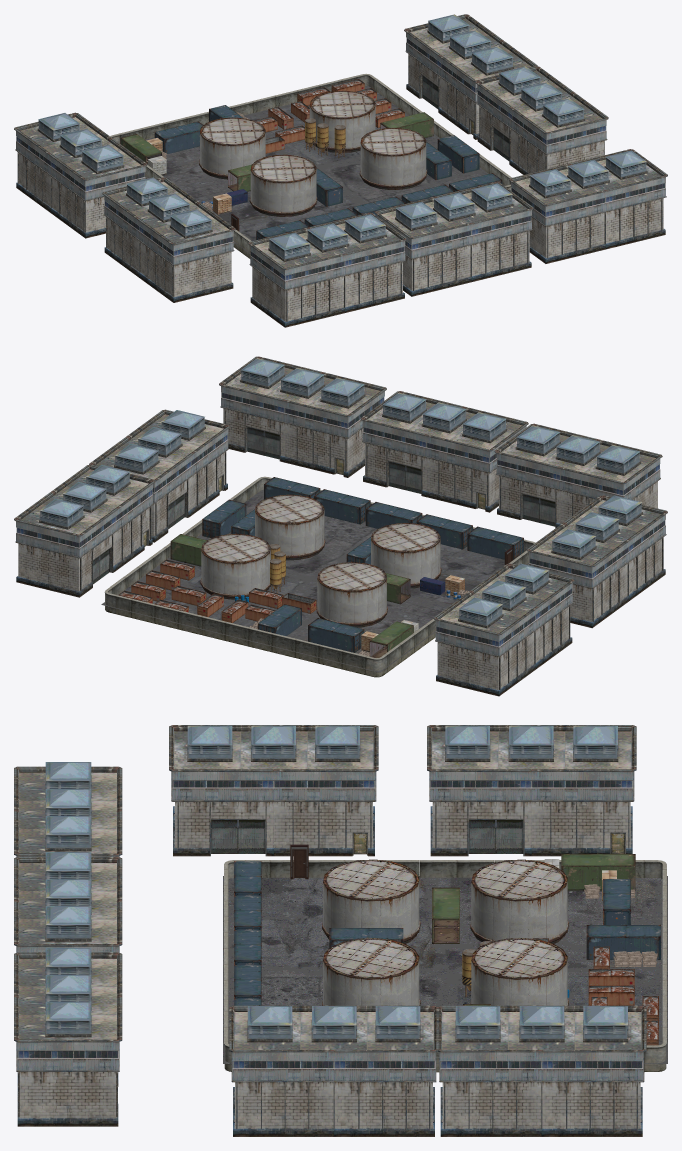
Rendered from stage.fbx.
3 renders of one model, top to bottom at view 1: azimuth 30°, elevation 25°; view 2: azimuth 150°, elevation 25°; view 3: azimuth 270°, elevation 25°, orthographic. The views are drawn at different scales.
Parts seen in each view (by area): view 1: Building_1__4_, Building_1__2_, Building_1__3_, Building_1__5_, Building_1, Building_1__7_, Building_1__1_, Alphalt_Floor, Liquid_reservoir_1__1_, Liquid_reservoir_1__3_, Liquid_reservoir_1, Liquid_reservoir_1__2_ (+12 smaller); view 2: Building_1__2_, Building_1__7_, Building_1__1_, Building_1__3_, Building_1__4_, Building_1__5_, Building_1, Alphalt_Floor, Liquid_reservoir_1, Liquid_reservoir_1__2_, Liquid_reservoir_1__3_, Liquid_reservoir_1__1_ (+14 smaller); view 3: Building_1__1_, Building_1, Building_1__7_, Building_1__5_, Alphalt_Floor, Building_1__2_, Building_1__3_, Building_1__4_, Liquid_reservoir_1, Liquid_reservoir_1__1_, Liquid_reservoir_1__3_, Liquid_reservoir_1__2_ (+13 smaller).
Part boxes in pixels (x1,y1,x2,y2): Building_1__4_: (248, 212, 407, 327); Building_1__2_: (509, 149, 667, 263); Building_1__3_: (375, 182, 533, 296); Building_1__5_: (102, 177, 235, 302); Building_1: (475, 66, 608, 174); Building_1__7_: (14, 112, 147, 238); Building_1__1_: (404, 14, 537, 139); Alphalt_Floor: (145, 86, 504, 253); Liquid_reservoir_1__1_: (249, 154, 317, 216); Liquid_reservoir_1__3_: (359, 128, 427, 189); Liquid_reservoir_1: (199, 117, 265, 179); Liquid_reservoir_1__2_: (309, 90, 375, 152); Building_1__2_: (219, 356, 386, 477); Building_1__7_: (433, 563, 574, 696); Building_1__1_: (14, 464, 154, 597); Building_1__3_: (360, 391, 528, 512); Building_1__4_: (494, 423, 662, 527); Building_1__5_: (526, 495, 667, 628); Building_1: (89, 409, 230, 542); Alphalt_Floor: (101, 489, 528, 672); Liquid_reservoir_1: (316, 562, 387, 627); Liquid_reservoir_1__2_: (200, 534, 270, 599); Liquid_reservoir_1__3_: (255, 494, 325, 560); Liquid_reservoir_1__1_: (371, 523, 441, 588); Building_1__1_: (437, 1005, 646, 1136); Building_1: (229, 1005, 438, 1136); Building_1__7_: (427, 725, 636, 856); Building_1__5_: (169, 725, 378, 856); Alphalt_Floor: (223, 876, 667, 1063); Building_1__2_: (14, 947, 122, 1126); Building_1__3_: (14, 852, 122, 952); Building_1__4_: (14, 762, 122, 856); Liquid_reservoir_1: (470, 859, 568, 943); Liquid_reservoir_1__1_: (322, 859, 420, 943); Liquid_reservoir_1__3_: (322, 938, 420, 1005); Liquid_reservoir_1__2_: (470, 938, 568, 1005).
Bounding box in the file's own units: 8328 × 1288 × 7054.
Materials: 17 (17 with a texture image).
